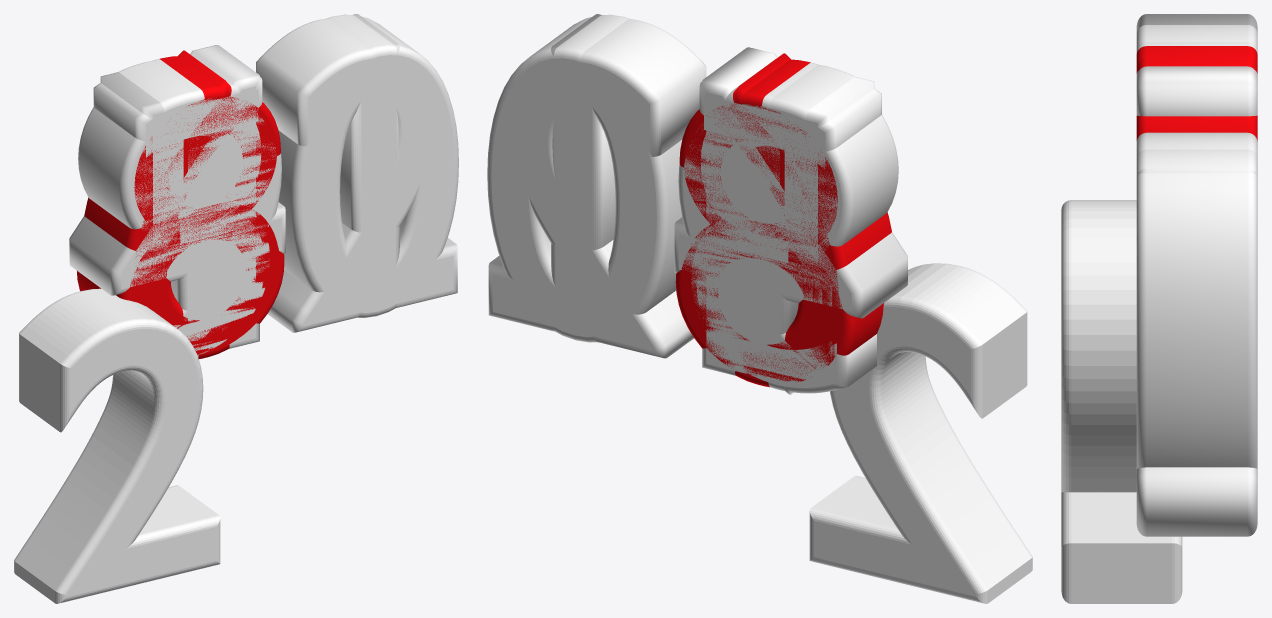
Rendered from num_2.glb.
The picture shows the model from 3 angles, left to right: view 1: azimuth 30°, elevation 25°; view 2: azimuth 150°, elevation 25°; view 3: azimuth 270°, elevation 25°; orthographic projection. The views are drawn at different scales.
Parts seen in each view (by area): view 1: Text, Text.007, Text.009, Text.002, Text.001, Text.006, Text.008, Text.005, Text.004, Text.003; view 2: Text, Text.007, Text.009, Text.002, Text.001, Text.006, Text.003, Text.005, Text.008, Text.004; view 3: Text.007, Text, Text.009, Text.003, Text.005, Text.002, Text.001, Text.004, Text.008, Text.006.
Part boxes in pixels (<box>): Text: <box>14,288,220,603</box>; Text.007: <box>171,14,458,349</box>; Text.009: <box>256,18,457,332</box>; Text.002: <box>69,45,285,348</box>; Text.001: <box>93,61,264,350</box>; Text.006: <box>78,59,281,341</box>; Text.008: <box>340,14,399,317</box>; Text.005: <box>77,56,284,358</box>; Text.004: <box>84,50,279,357</box>; Text.003: <box>100,55,269,357</box>; Text: <box>809,263,1032,603</box>; Text.007: <box>487,14,798,374</box>; Text.009: <box>488,19,706,358</box>; Text.002: <box>674,47,907,375</box>; Text.001: <box>696,64,881,390</box>; Text.006: <box>678,62,898,394</box>; Text.003: <box>691,58,877,393</box>; Text.005: <box>675,59,883,387</box>; Text.008: <box>551,14,615,342</box>; Text.004: <box>681,53,891,385</box>; Text.007: <box>1136,149,1257,468</box>; Text: <box>1061,200,1182,603</box>; Text.009: <box>1136,132,1257,536</box>; Text.003: <box>1136,14,1257,116</box>; Text.005: <box>1136,46,1257,141</box>; Text.002: <box>1136,66,1257,89</box>; Text.001: <box>1136,25,1257,49</box>; Text.004: <box>1136,57,1257,73</box>; Text.008: <box>1137,168,1256,174</box>; Text.006: <box>1136,42,1257,53</box>.
Bounding box in the file's own units: 1.24 × 1.24 × 0.3893.
